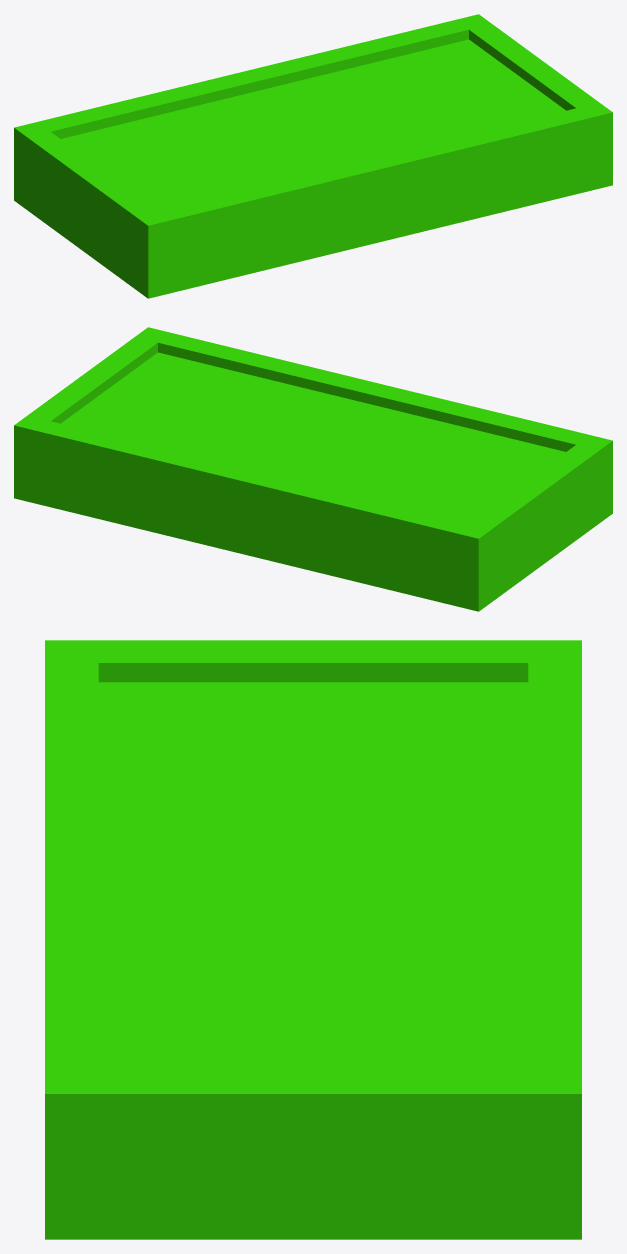
The model's file is flowerbed_1x2_empty.fbx.
The picture shows the model from 3 angles, top to bottom: view 1: azimuth 30°, elevation 25°; view 2: azimuth 150°, elevation 25°; view 3: azimuth 270°, elevation 25°; orthographic projection. The views are drawn at different scales.
Parts seen in each view (by area): view 1: flowerbed_1x2_empty; view 2: flowerbed_1x2_empty; view 3: flowerbed_1x2_empty.
Boxes of the visible parts, left/top/right/bottom form: flowerbed_1x2_empty: left=14, top=14, right=612, bottom=298; flowerbed_1x2_empty: left=14, top=327, right=612, bottom=611; flowerbed_1x2_empty: left=45, top=640, right=581, bottom=1239.
Bounding box in the file's own units: 200 × 30 × 100.
